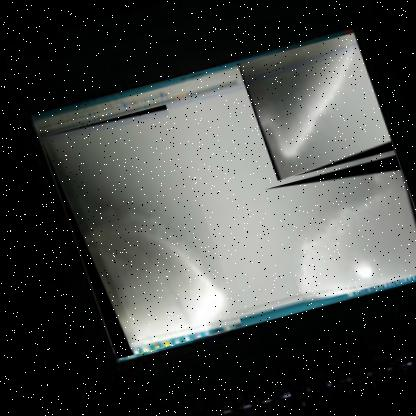fade: (35, 104, 240, 360), (257, 155, 415, 307), (234, 33, 395, 182)
